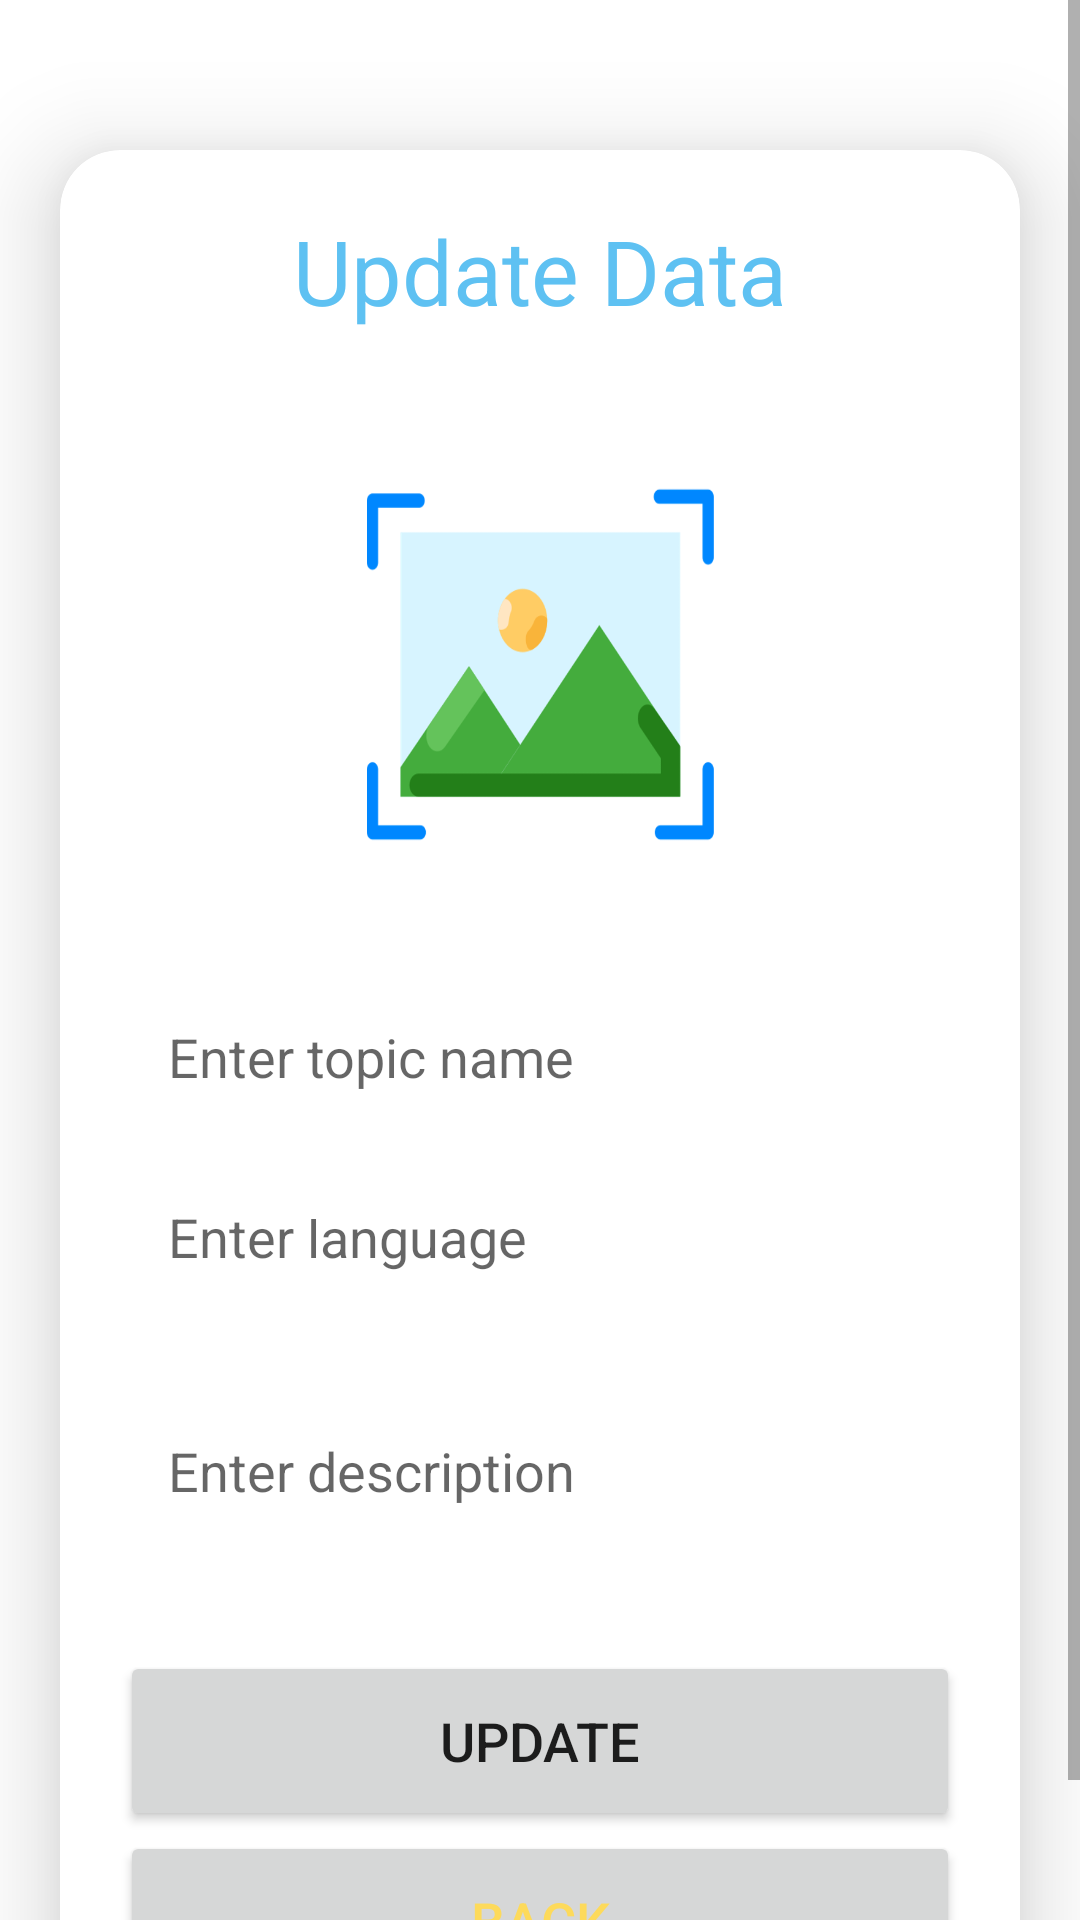

Icon click points for this 1080 × 1920 phone screenshot, format (x=x, y=y):
uploadimg: (x=540, y=664)
